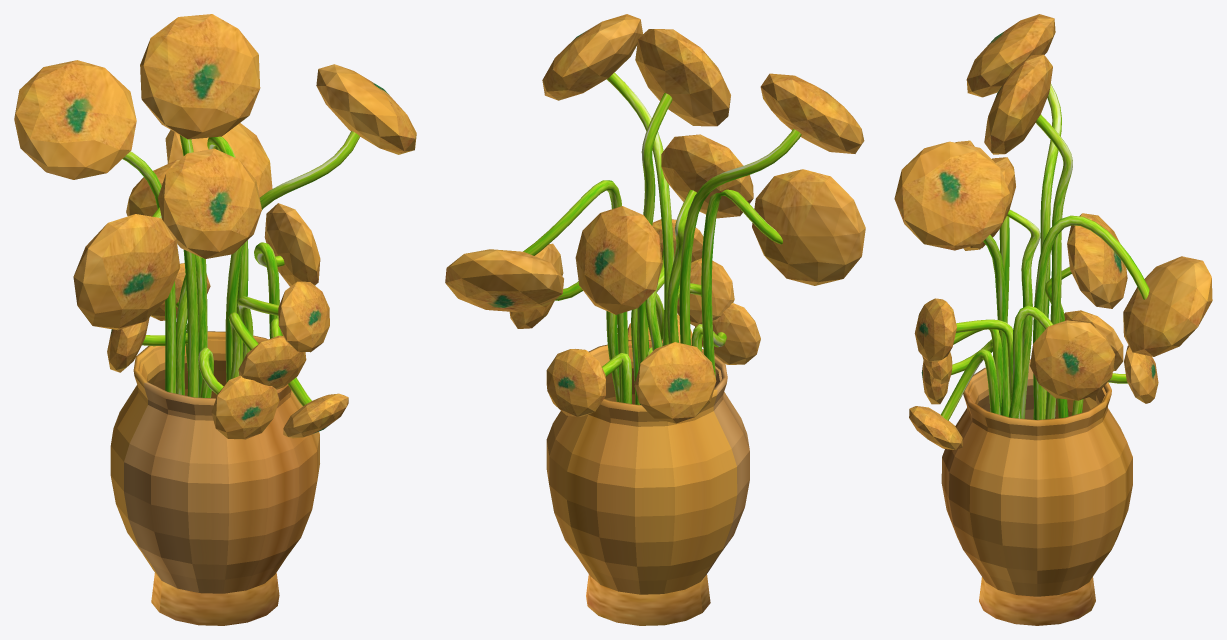
File: sunflower.gltf
The picture shows the model from 3 angles, left to right: view 1: azimuth 30°, elevation 25°; view 2: azimuth 150°, elevation 25°; view 3: azimuth 270°, elevation 25°; orthographic projection. The views are drawn at different scales.
Parts seen in each view (by area): view 1: Cube, 아이코스피어.006, 아이코스피어.005, 아이코스피어.007, 아이코스피어.012, 아이코스피어.003, 아이코스피어, 아이코스피어.008, 아이코스피어.002, 베지어커브.003, 아이코스피어.001, 아이코스피어.009 (+12 smaller); view 2: Cube, 아이코스피어.007, 아이코스피어.013, 아이코스피어.006, 아이코스피어.009, 아이코스피어.011, 아이코스피어.003, 아이코스피어.005, 아이코스피어.012, 아이코스피어.010, 베지어커브, 베지어커브.010 (+12 smaller); view 3: Cube, 아이코스피어.003, 아이코스피어.009, 아이코스피어.008, 아이코스피어.006, 아이코스피어.005, 아이코스피어.013, 베지어커브.002, 베지어커브.001, 아이코스피어.002, 베지어커브.007, 베지어커브 (+13 smaller).
Part boxes in pixels (box(x1,y1,x2,y2)): Cube: box(110, 331, 319, 625); 아이코스피어.006: box(140, 14, 260, 139); 아이코스피어.005: box(14, 60, 136, 179); 아이코스피어.007: box(73, 214, 180, 330); 아이코스피어.012: box(158, 148, 261, 258); 아이코스피어.003: box(316, 64, 416, 154); 아이코스피어: box(211, 375, 279, 439); 아이코스피어.008: box(264, 203, 320, 286); 아이코스피어.002: box(278, 281, 329, 352); 베지어커브.003: box(225, 131, 359, 382); 아이코스피어.001: box(238, 335, 306, 389); 아이코스피어.009: box(165, 123, 272, 197); Cube: box(546, 340, 749, 625); 아이코스피어.007: box(752, 169, 865, 285); 아이코스피어.013: box(575, 206, 662, 314); 아이코스피어.006: box(635, 29, 730, 126); 아이코스피어.009: box(445, 249, 563, 312); 아이코스피어.011: box(634, 342, 716, 423); 아이코스피어.003: box(542, 14, 642, 100); 아이코스피어.005: box(760, 73, 864, 153); 아이코스피어.012: box(661, 134, 753, 218); 아이코스피어.010: box(546, 349, 605, 416); 베지어커브: box(679, 129, 801, 345); 베지어커브.010: box(701, 189, 782, 378); Cube: box(941, 359, 1132, 625); 아이코스피어.003: box(894, 141, 1009, 250); 아이코스피어.009: box(1123, 256, 1212, 356); 아이코스피어.008: box(1030, 320, 1115, 400); 아이코스피어.006: box(984, 54, 1052, 154); 아이코스피어.005: box(966, 14, 1055, 97); 아이코스피어.013: box(1067, 213, 1127, 308); 베지어커브.002: box(1033, 215, 1149, 419); 베지어커브.001: box(1035, 114, 1072, 419); 아이코스피어.002: box(914, 298, 956, 362); 베지어커브.007: box(1007, 209, 1040, 418); 베지어커브: box(1033, 83, 1061, 419).
Size of the model in its own units: 2.79 by 4.44 by 2.41.
5 materials, 5 textured.
